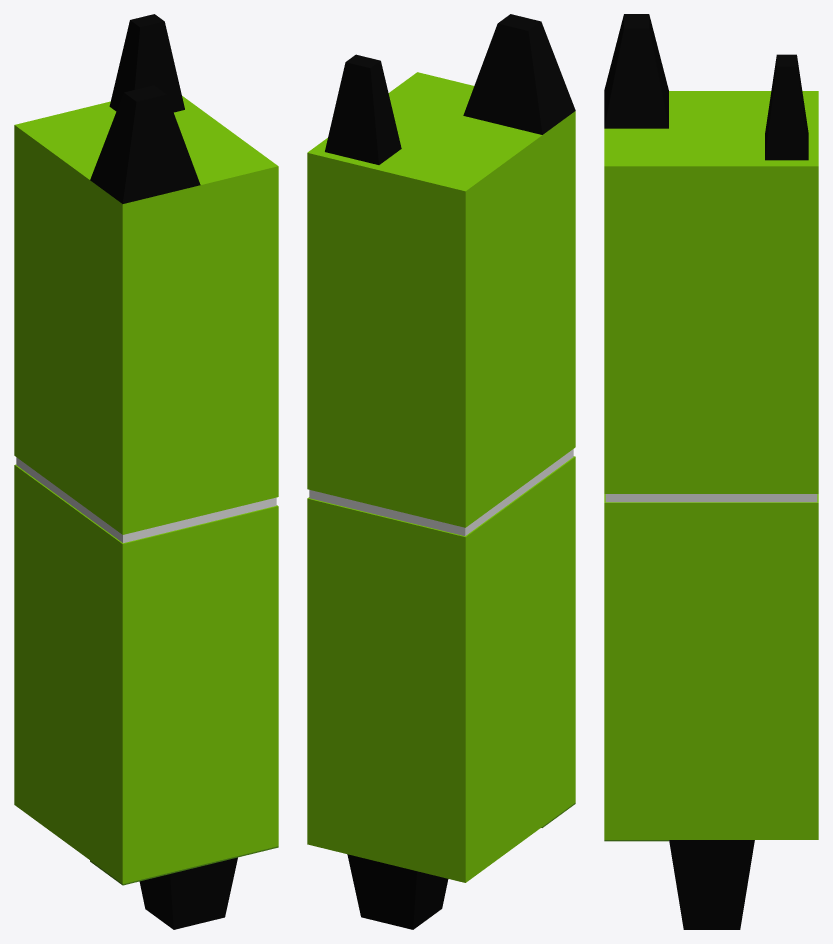
Rendered from Fusible_4.fbx.
3 renders of one model, left to right at view 1: azimuth 30°, elevation 25°; view 2: azimuth 150°, elevation 25°; view 3: azimuth 270°, elevation 25°, orthographic. The views are drawn at different scales.
Parts seen in each view (by area): view 1: Fusible.003; view 2: Fusible.003; view 3: Fusible.003.
Boxes of the visible parts, x1,y1,x2,y2 form: Fusible.003: (14, 14, 278, 929); Fusible.003: (307, 14, 575, 929); Fusible.003: (604, 14, 818, 929).
Bounding box in the file's own units: 47.93 × 255 × 57.74.
